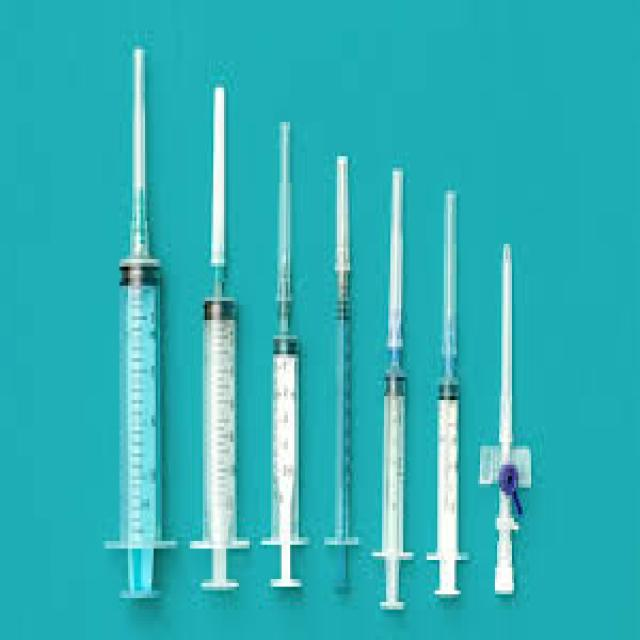syringe: (102, 38, 177, 598), (188, 80, 250, 590), (260, 114, 307, 587), (371, 164, 414, 609), (424, 187, 470, 598), (478, 240, 531, 594), (322, 148, 359, 590)
